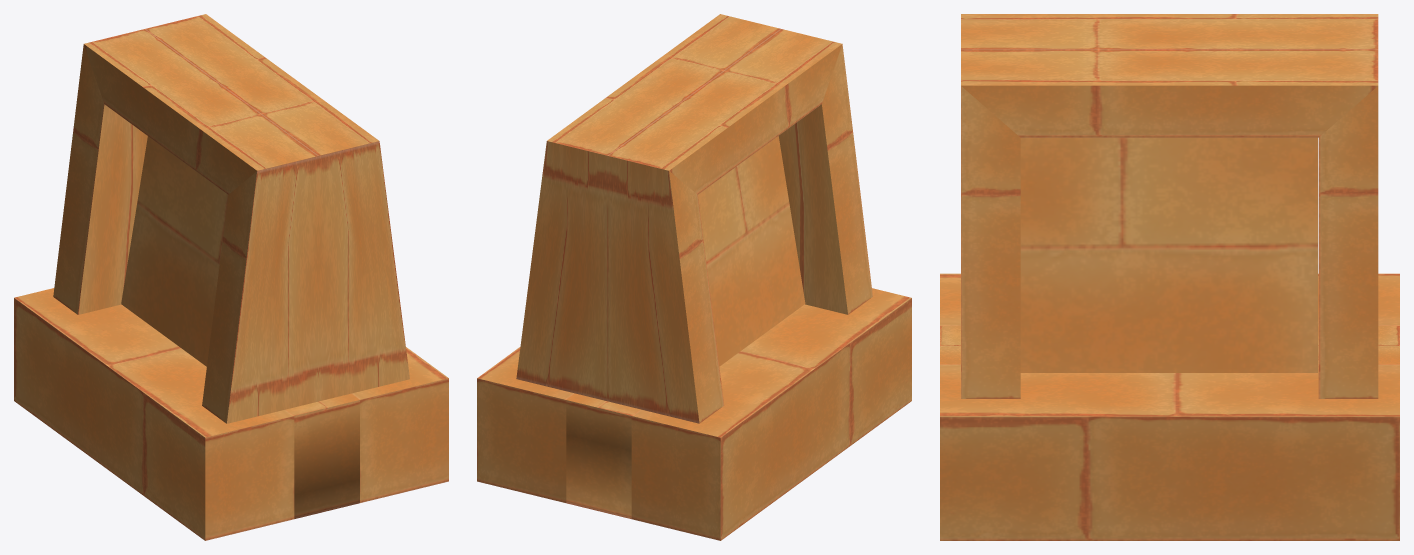
File: glyph_hieroglyphs.glb
The picture shows the model from 3 angles, left to right: view 1: azimuth 30°, elevation 25°; view 2: azimuth 150°, elevation 25°; view 3: azimuth 270°, elevation 25°; orthographic projection. The views are drawn at different scales.
Visible parts, largest first — view 1: TempleEmbelisher01_Art; view 2: TempleEmbelisher01_Art; view 3: TempleEmbelisher01_Art.
Boxes of the visible parts, x1,y1,x2,y2 form: TempleEmbelisher01_Art: (14,14,448,540); TempleEmbelisher01_Art: (477,14,911,540); TempleEmbelisher01_Art: (940,14,1399,540).
Size of the model in its own units: 5.29 by 7.23 by 7.18.
Materials: 1 (1 with a texture image).
